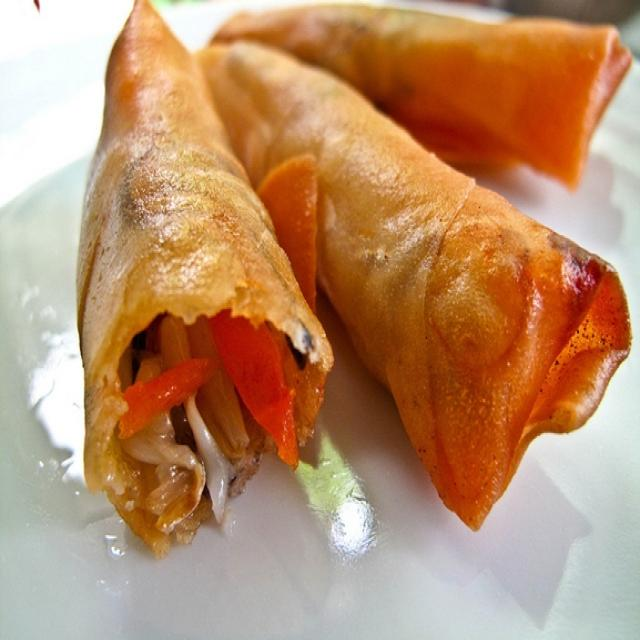炸货点心: (38, 8, 618, 588)
